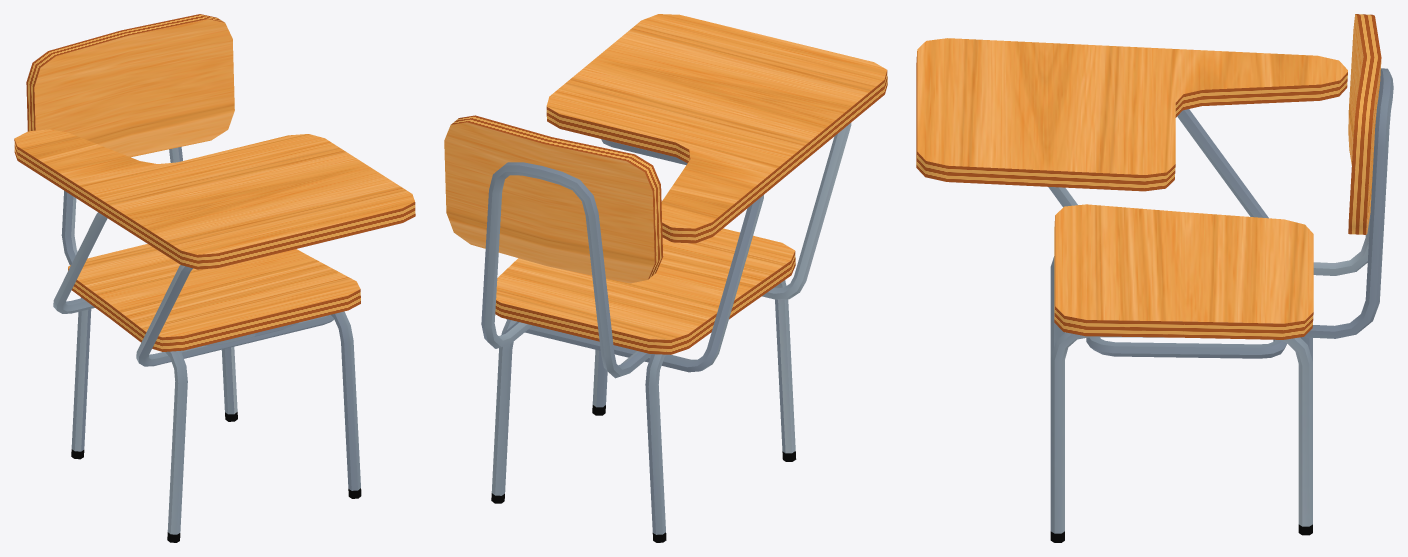
3 views of the same model, side by side, from view 1: azimuth 30°, elevation 25°; view 2: azimuth 150°, elevation 25°; view 3: azimuth 270°, elevation 25° (orthographic). The views are drawn at different scales.
Visible parts, largest first — view 1: desk_combined_reduced; view 2: desk_combined_reduced; view 3: desk_combined_reduced.
Boxes of the visible parts, x1,y1,x2,y2 form: desk_combined_reduced: (14, 14, 415, 542); desk_combined_reduced: (444, 14, 887, 542); desk_combined_reduced: (916, 14, 1393, 542).
Size of the model in its own units: 0.5464 by 0.8458 by 0.8432.
Materials: 1 (1 with a texture image).
